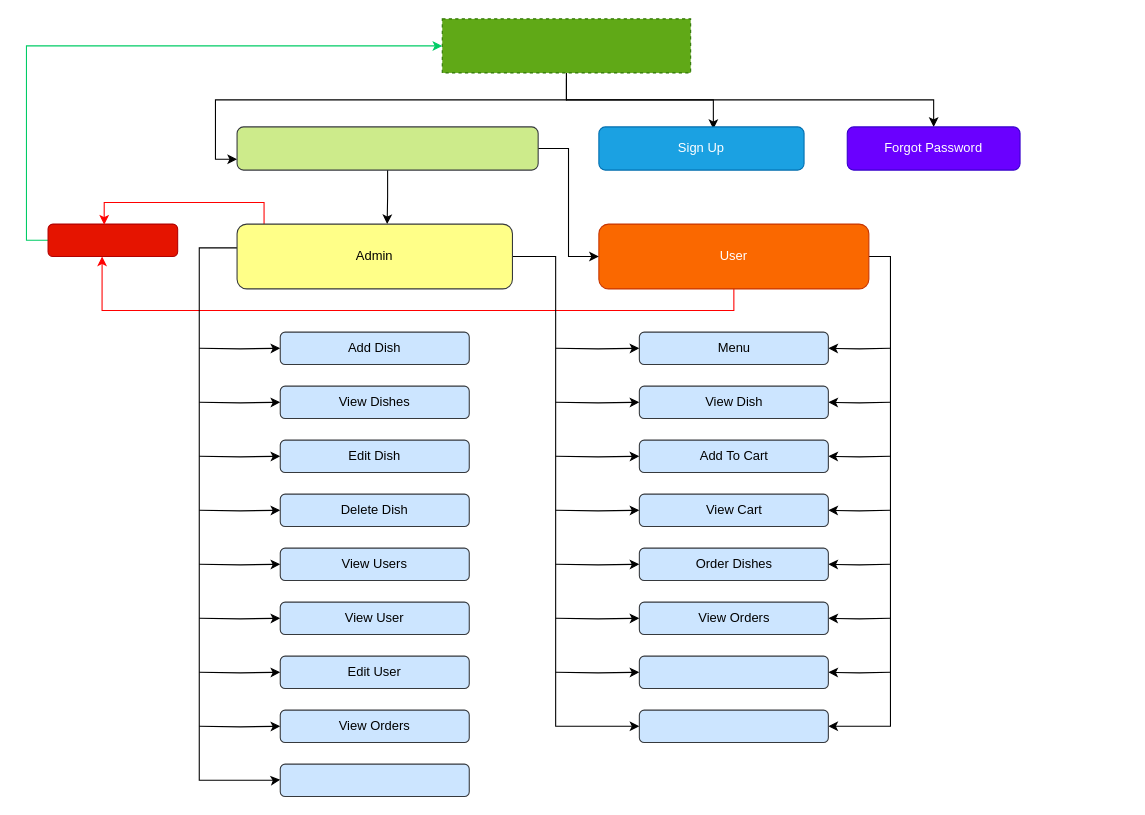
Some shapes in this 1145 by 815 pixel diagram are drawn without their labels. The centre of each missing label's shape, as x and y in pixels:
"Change Password" belongs at (733,725).
"Home Page (Kitchen Story)" belongs at (566,45).
"Login" belongs at (387,148).
"Logout" belongs at (112,239).
"View Order" belongs at (374,779).
"View Profile" belongs at (733,671).
